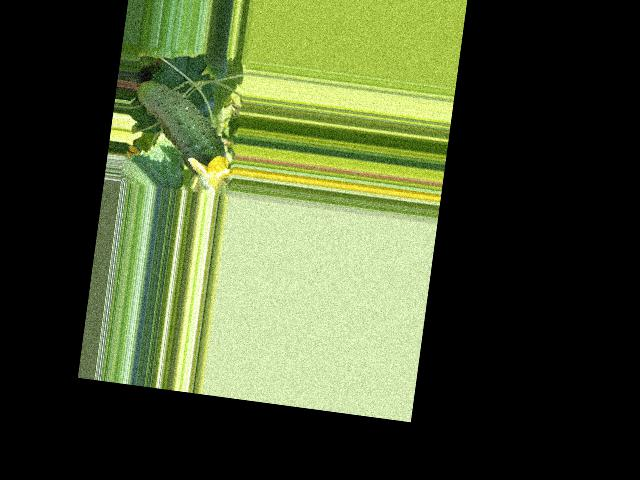cucumber: (121, 77, 234, 178)
